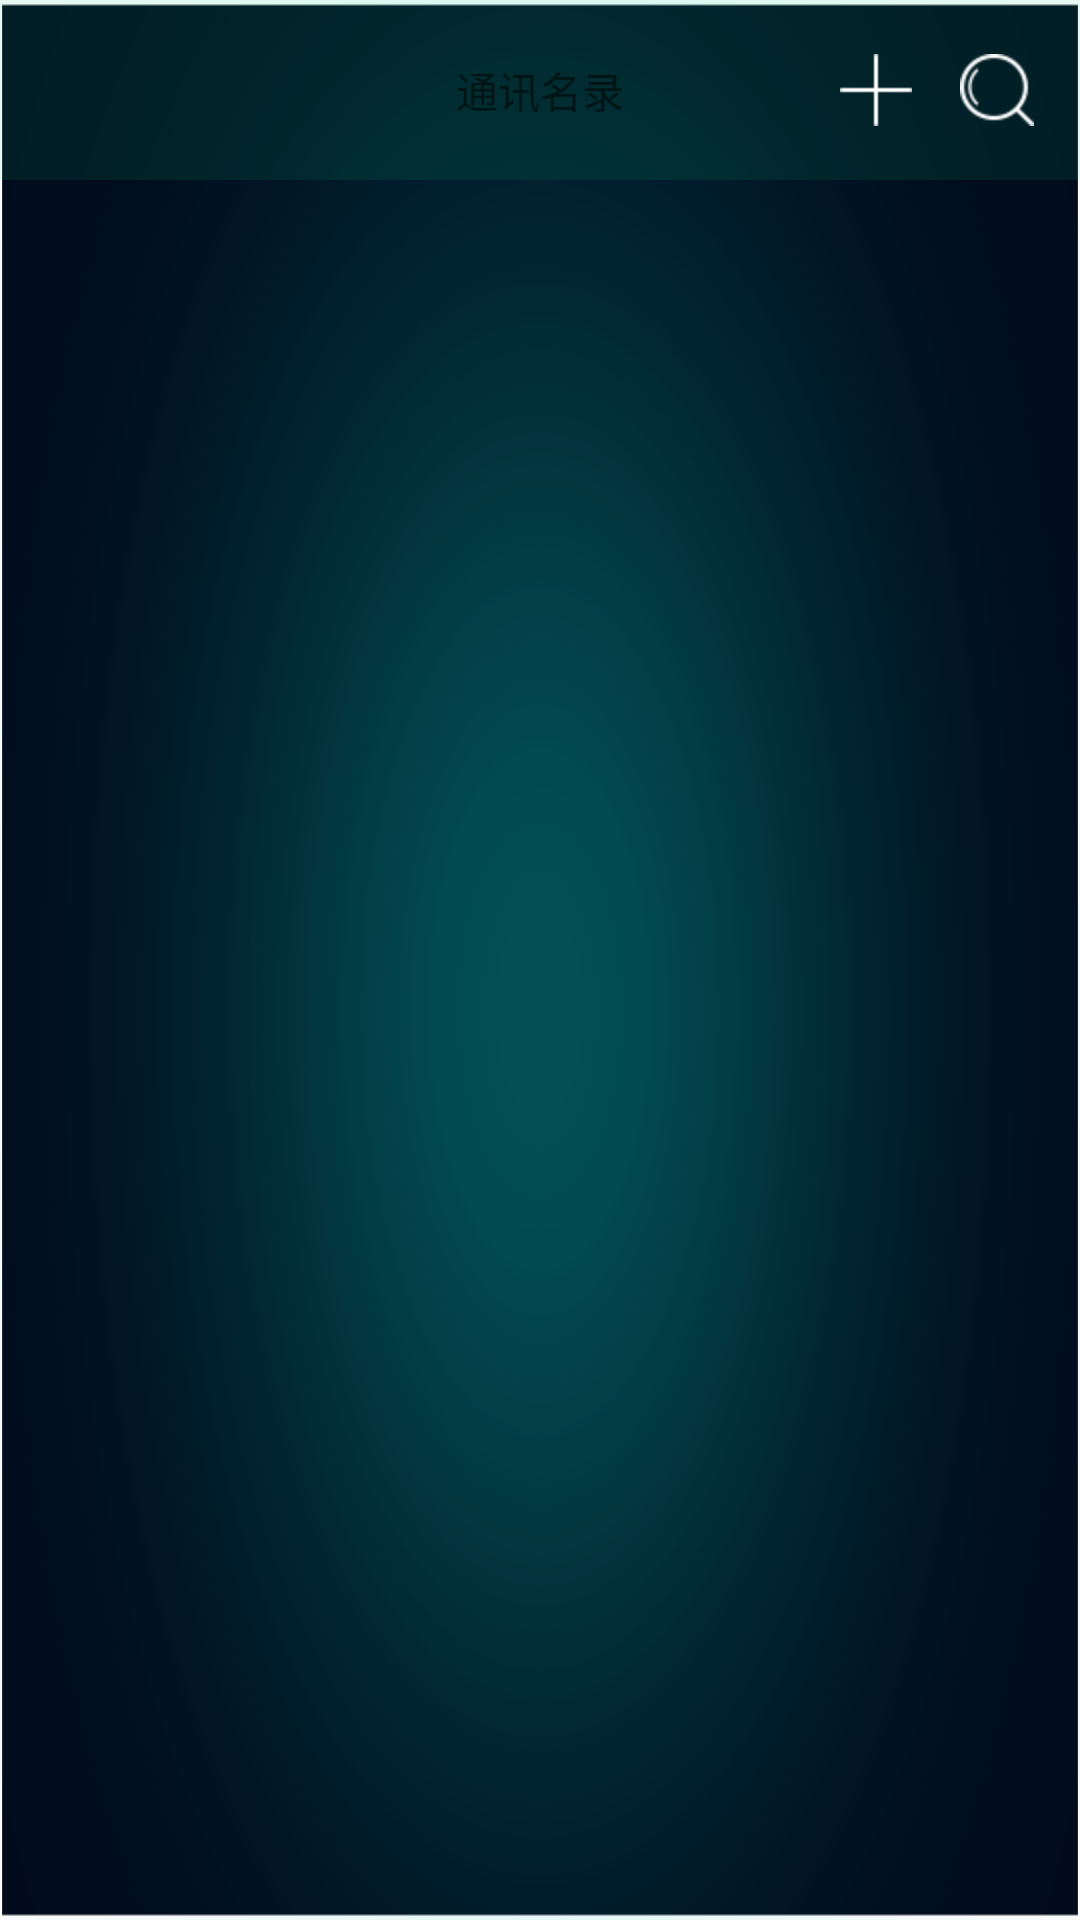

Icon click points for this 1080px×1920px phone screenshot, format [x,y]:
sousuotongxunlu: [997,90]
tianjia: [876,90]
